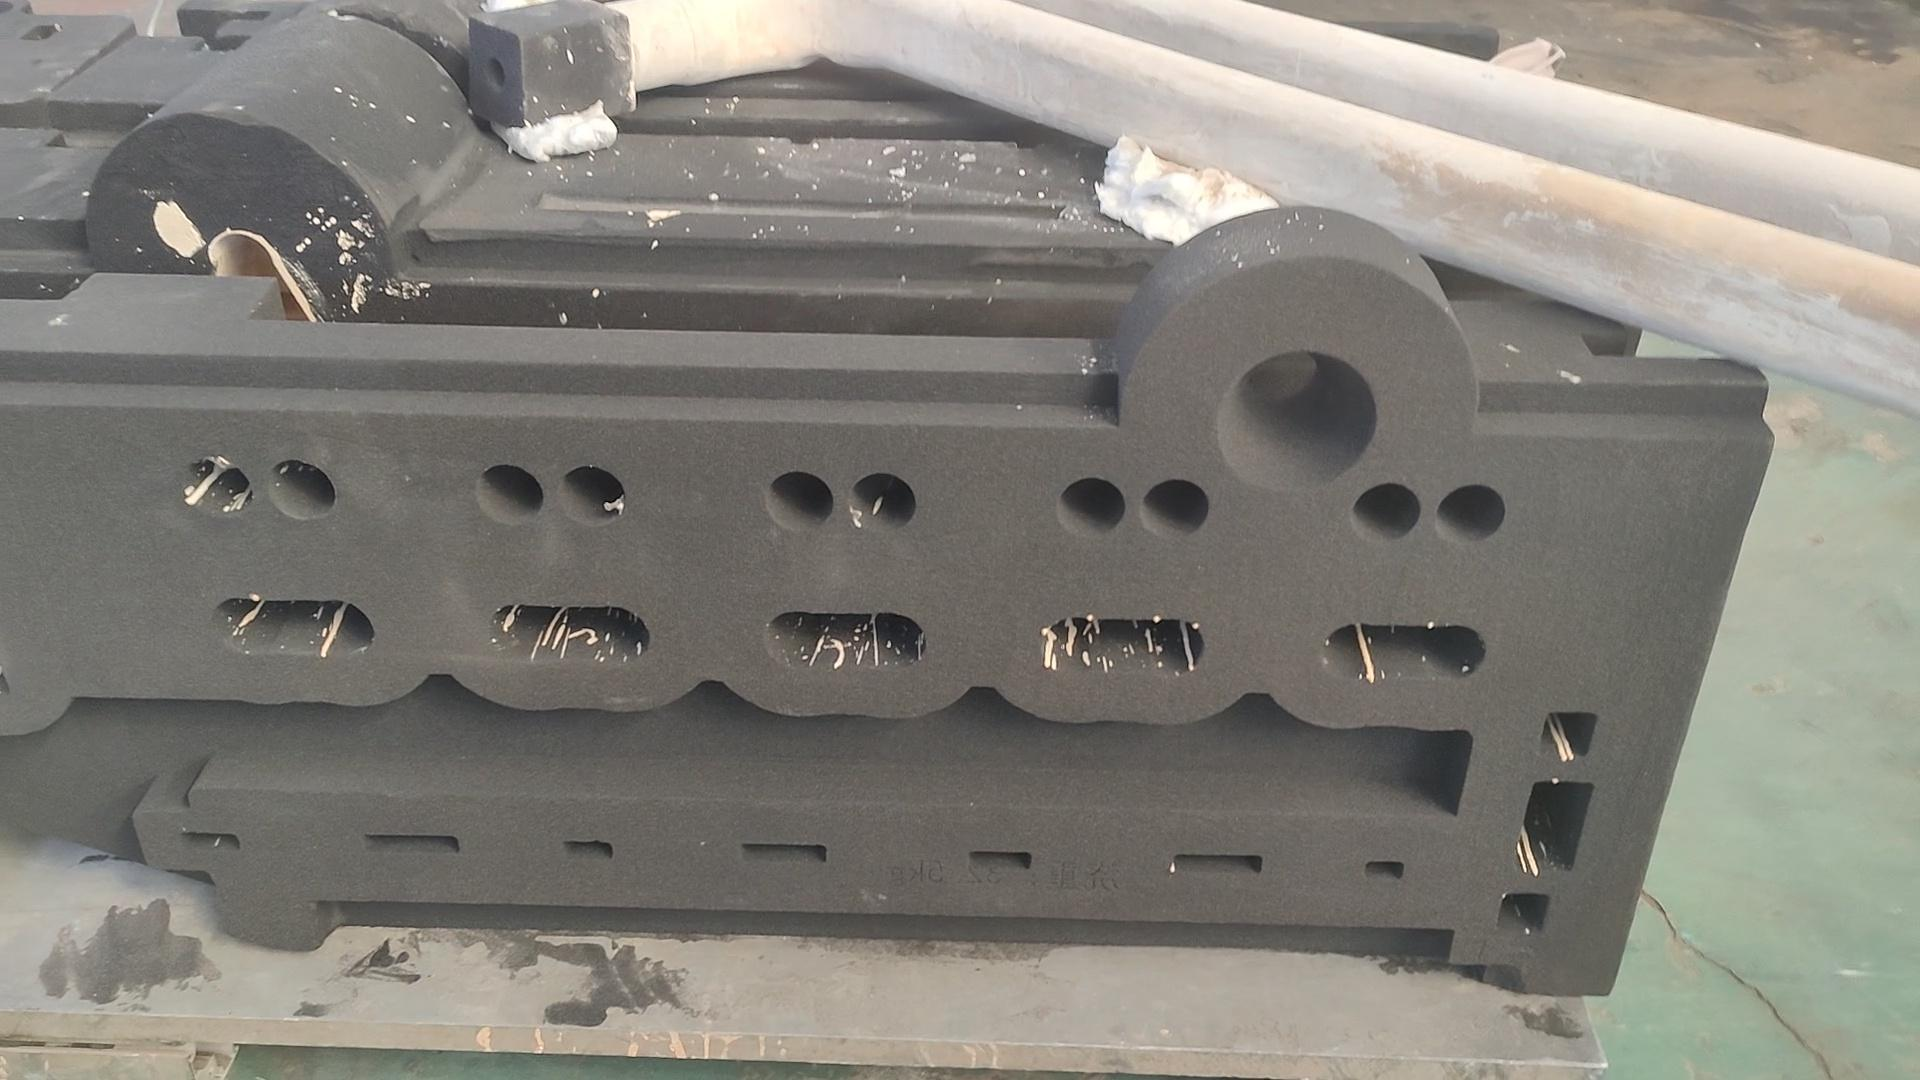pouring hole: (1217, 349, 1375, 493)
